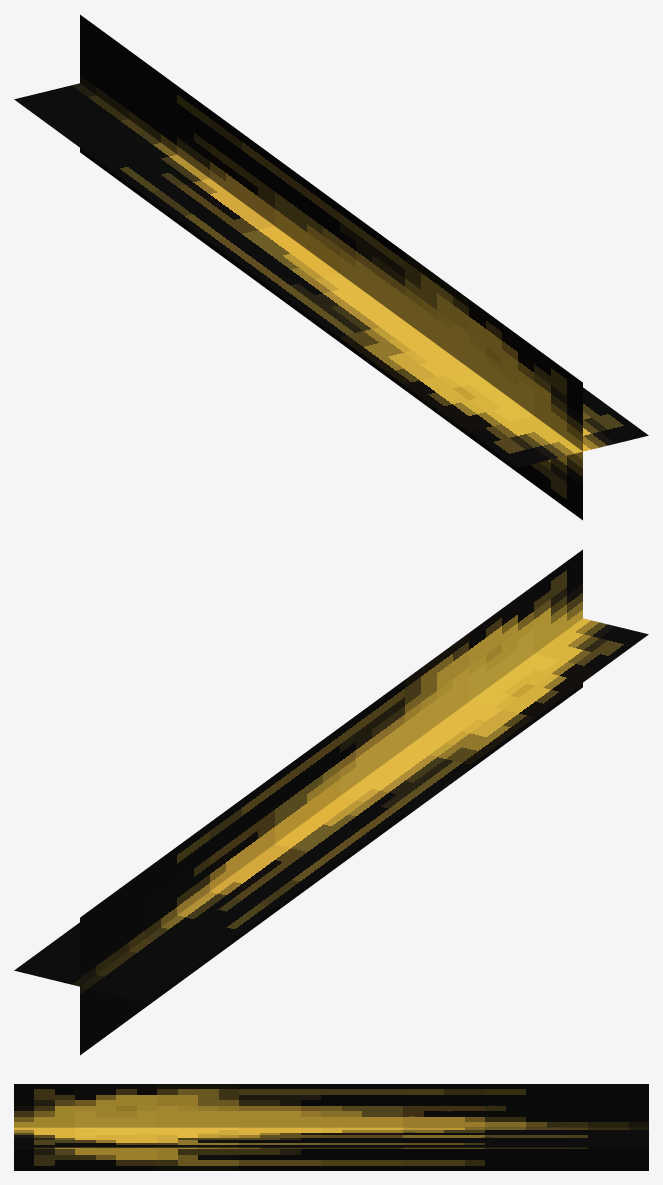
The model's file is petosuchus_projectile_base.glb.
3 renders of one model, top to bottom at view 1: azimuth 30°, elevation 25°; view 2: azimuth 150°, elevation 25°; view 3: azimuth 270°, elevation 25°, orthographic. The views are drawn at different scales.
Visible parts, largest first — view 1: MeshRoot; view 2: MeshRoot; view 3: MeshRoot.
Boxes of the visible parts, x1,y1,x2,y2 form: MeshRoot: [14, 14, 648, 520]; MeshRoot: [14, 549, 648, 1055]; MeshRoot: [14, 1084, 648, 1170].
Bounding box in the file's own units: 0.1309 × 0.1309 × 0.8657.
1 material, 1 textured.
